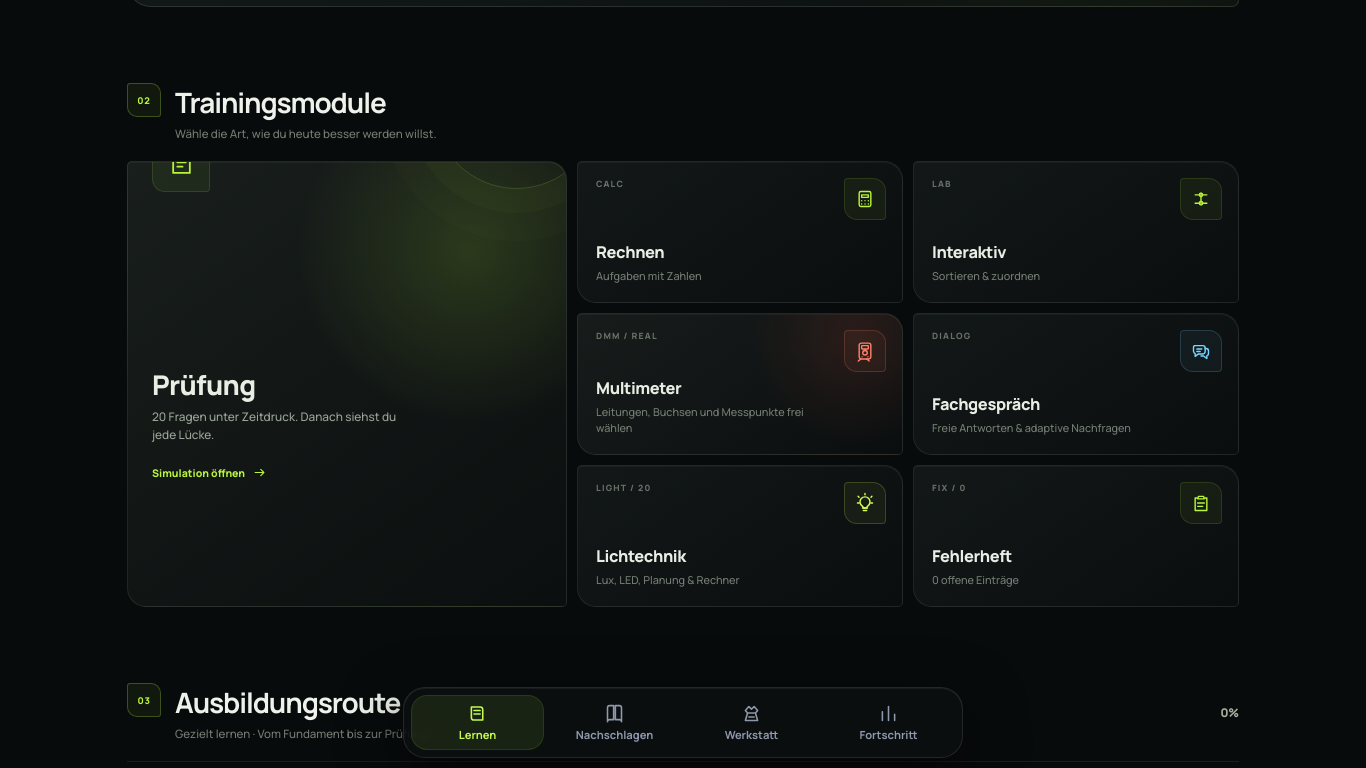
Test case: Tastatur-Shortcuts › Pruefung: Zifferntaste waehlt eine Antwort aus
(page scrolled)
Click the text "Prüfung": (204, 384) [152, 366, 256, 403]
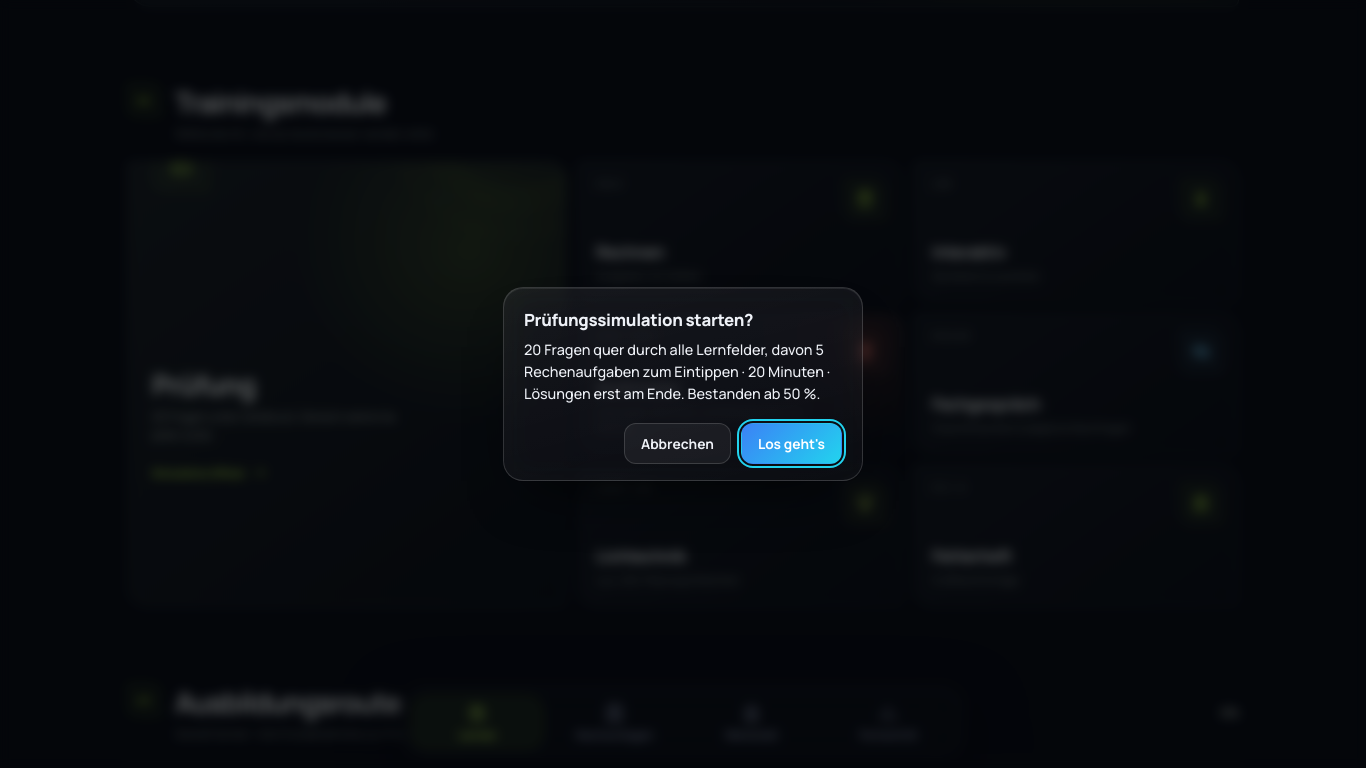
Click the button "Los geht's": (791, 444) [741, 424, 842, 464]
(page scrolled)
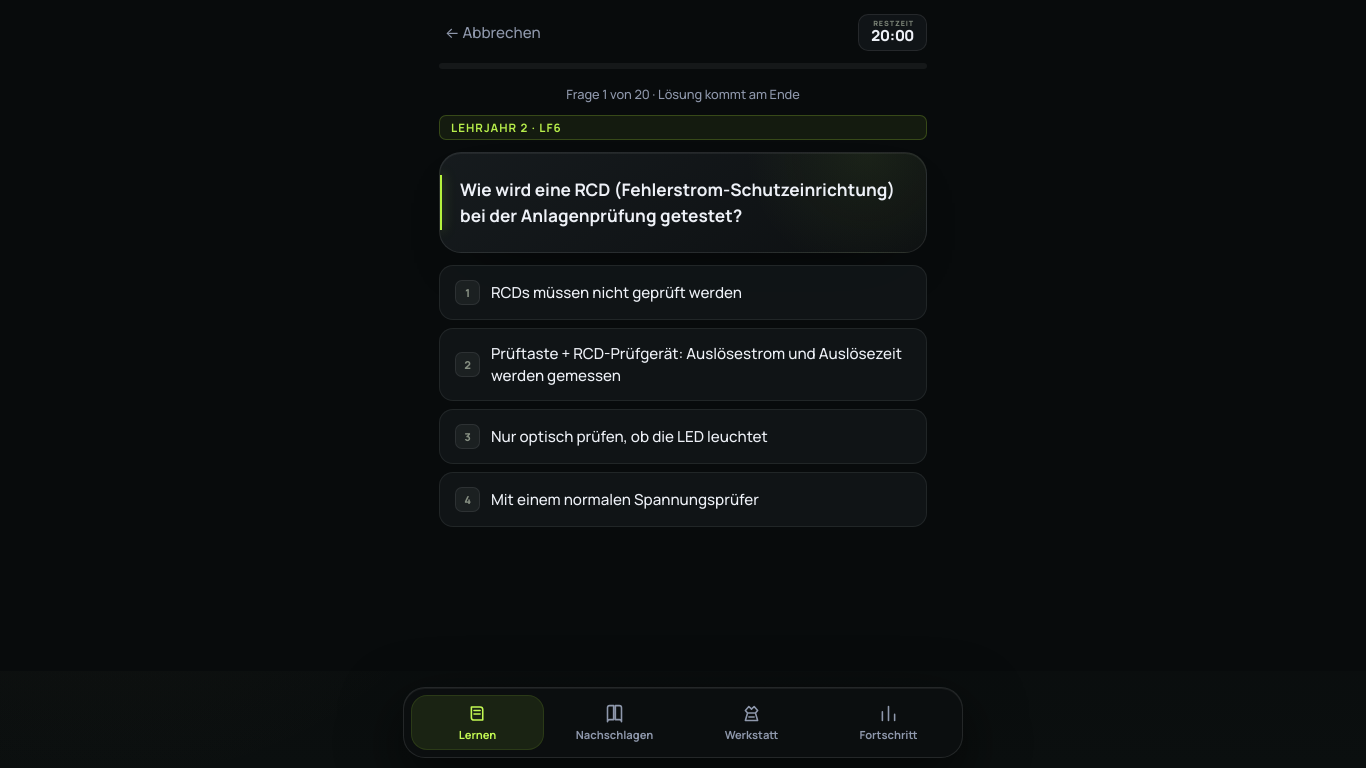
Press 1
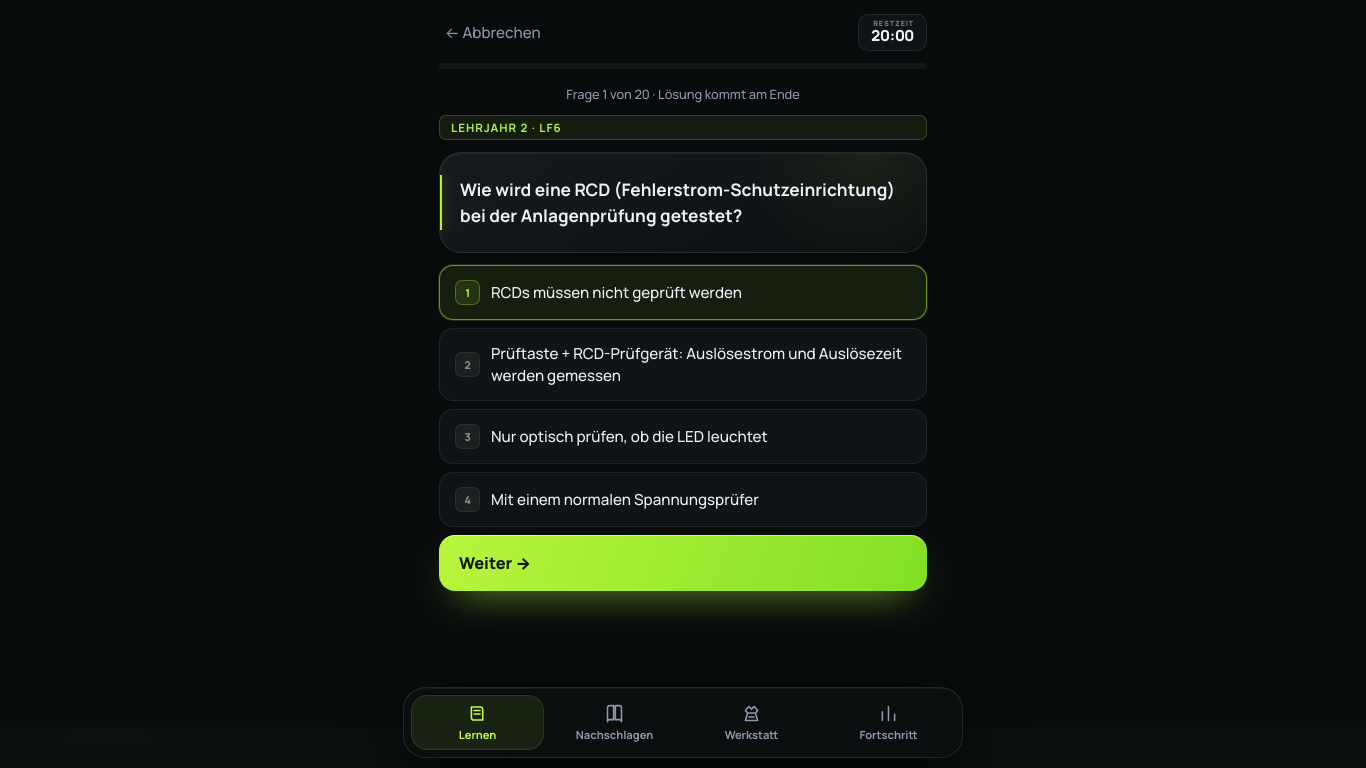
expect the button with class "sel" is shown: met, box [439, 266, 927, 320]
